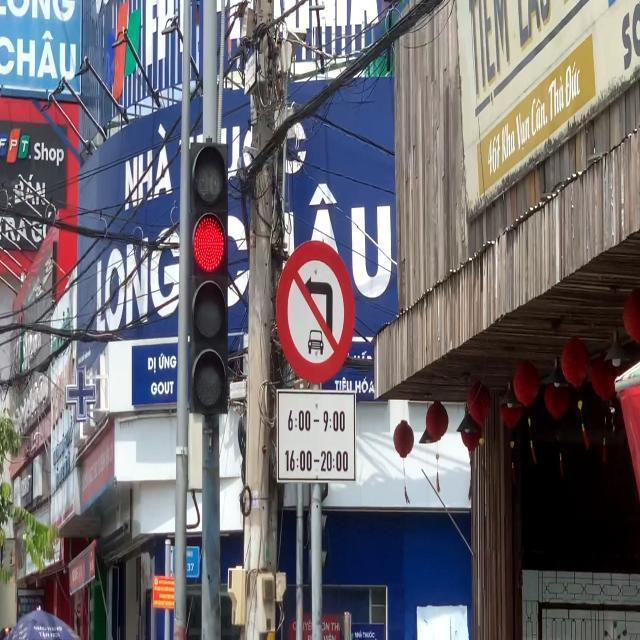123a-cam-re-trai: (276, 238, 352, 378)
